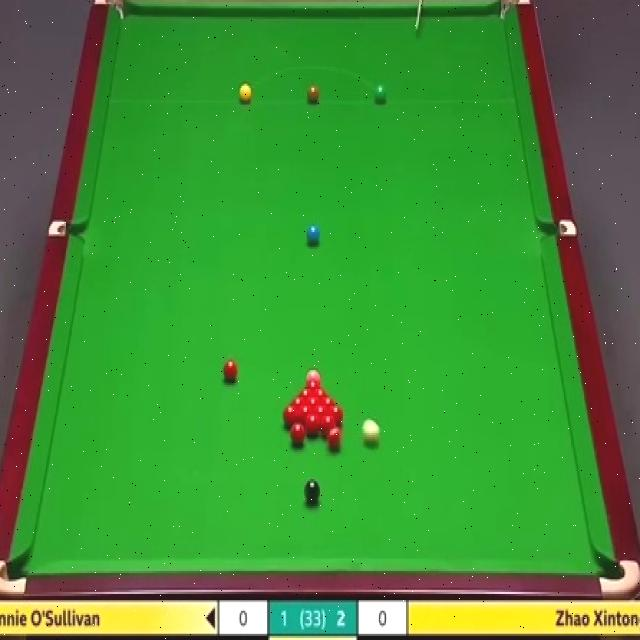black-ball: (304, 478, 320, 505)
blue-ball: (306, 224, 320, 242)
brown-ball: (306, 86, 320, 103)
green-ball: (373, 82, 388, 106)
pink-ball: (306, 369, 322, 387)
red-ball: (283, 403, 300, 429), (321, 413, 336, 441), (289, 421, 306, 443), (224, 358, 238, 384), (306, 413, 321, 435), (312, 406, 330, 424), (328, 405, 344, 425), (320, 394, 336, 410), (290, 394, 307, 409), (306, 394, 320, 410), (300, 406, 311, 426), (313, 385, 326, 401), (299, 387, 314, 400)
white-ball: (362, 416, 378, 450)
yellow-ball: (238, 83, 252, 104)
